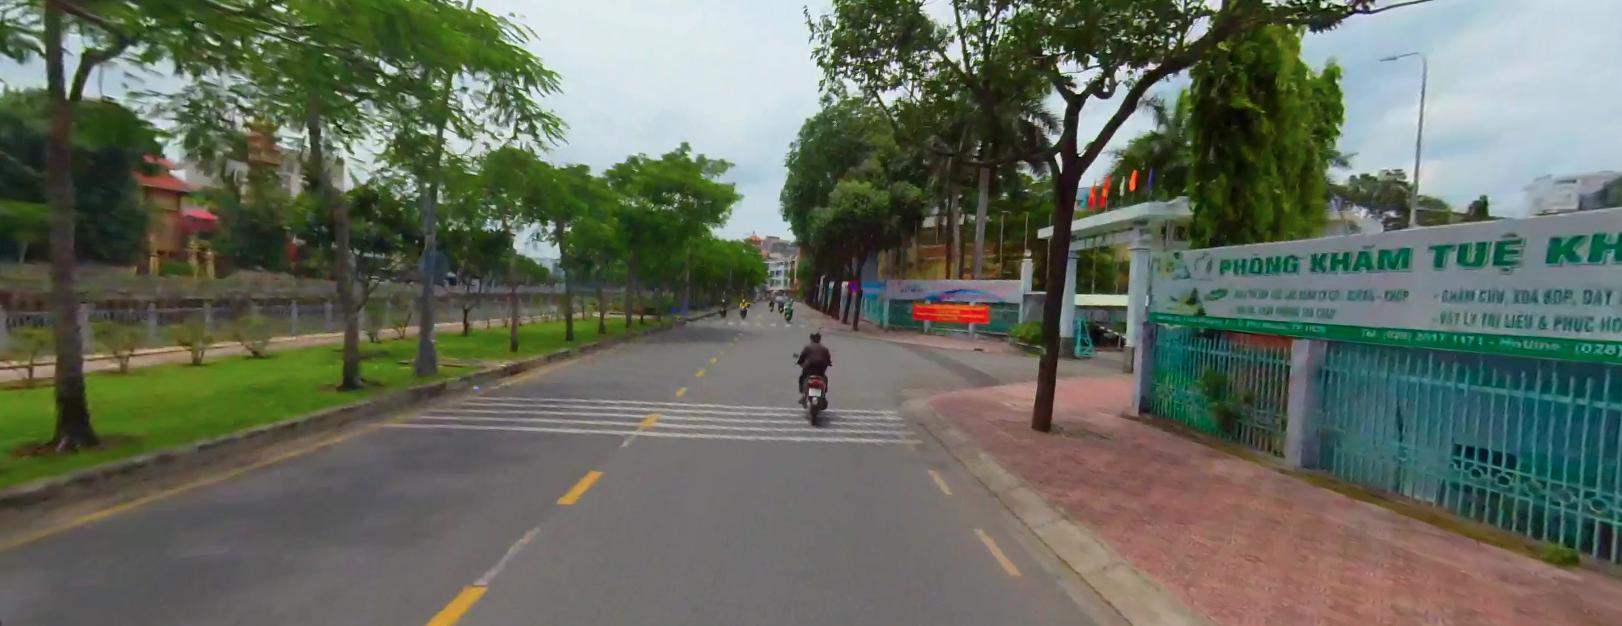Cam dung va do: (847, 278, 859, 290)
